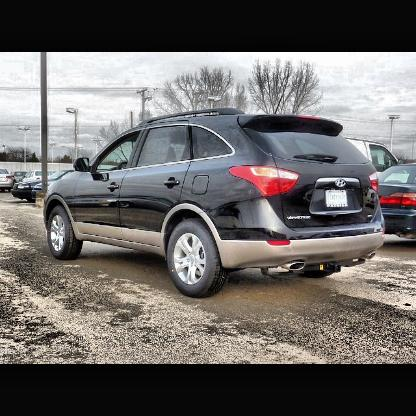Hyundai Veracruz SUV 2012: (47, 109, 385, 299)
